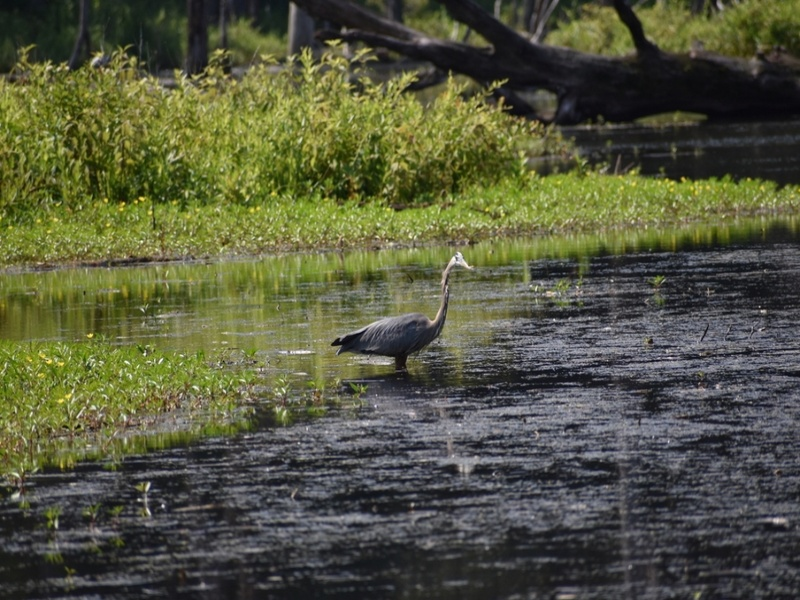heron: (333, 250, 473, 363)
